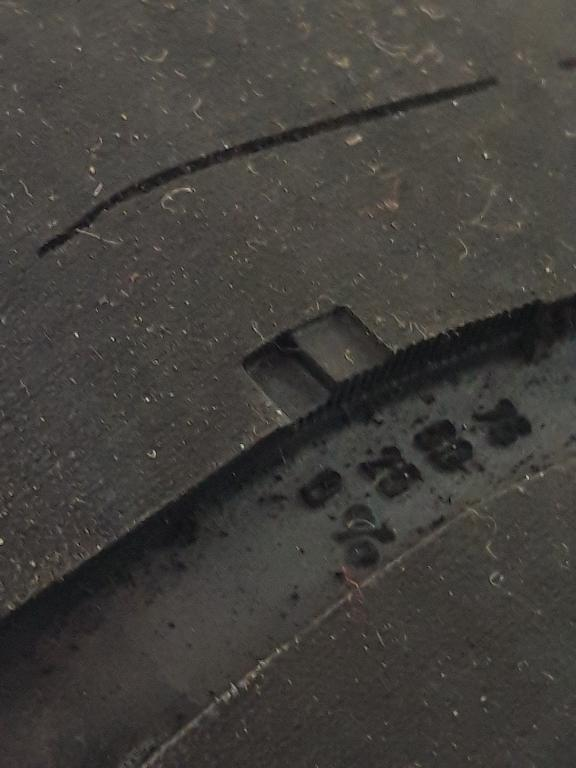temoin:25: (233, 298, 403, 450)
